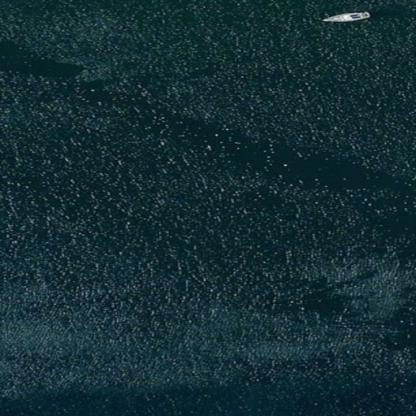ship: (315, 0, 374, 28)
